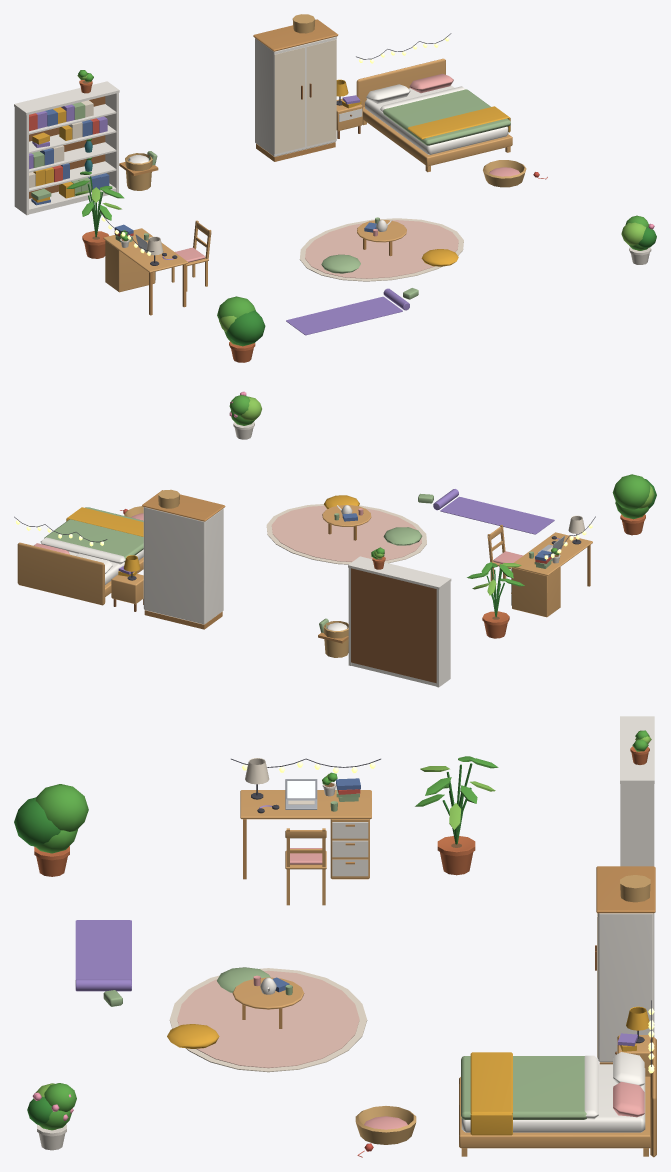
The model's file is einrichtung_miras_zimmer.glb.
The picture shows the model from 3 angles, top to bottom: view 1: azimuth 30°, elevation 25°; view 2: azimuth 150°, elevation 25°; view 3: azimuth 270°, elevation 25°; orthographic projection. The views are drawn at different scales.
Visible parts, largest first — view 1: einrichtung_miras_zimmer; view 2: einrichtung_miras_zimmer; view 3: einrichtung_miras_zimmer.
Boxes of the visible parts, bbox=[...] form: einrichtung_miras_zimmer: bbox=[14, 14, 656, 362]; einrichtung_miras_zimmer: bbox=[14, 391, 656, 687]; einrichtung_miras_zimmer: bbox=[14, 716, 656, 1157].
Bounding box in the file's own units: 7.77 × 2.06 × 6.83.
